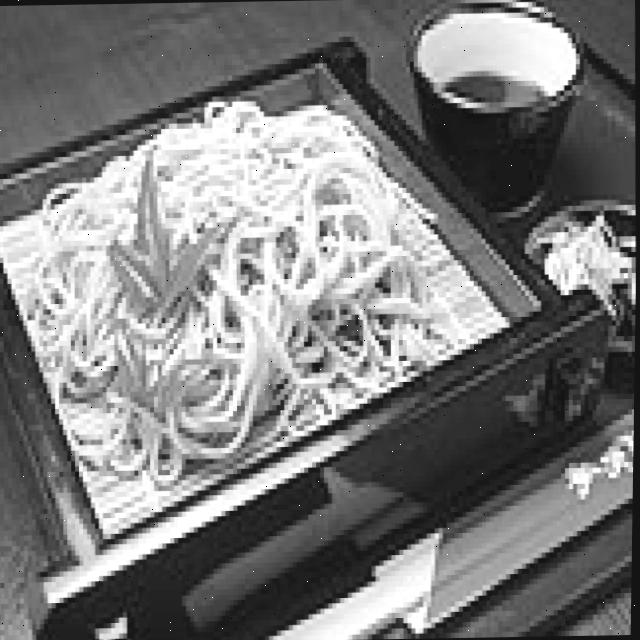面条主食: (0, 9, 625, 640)
